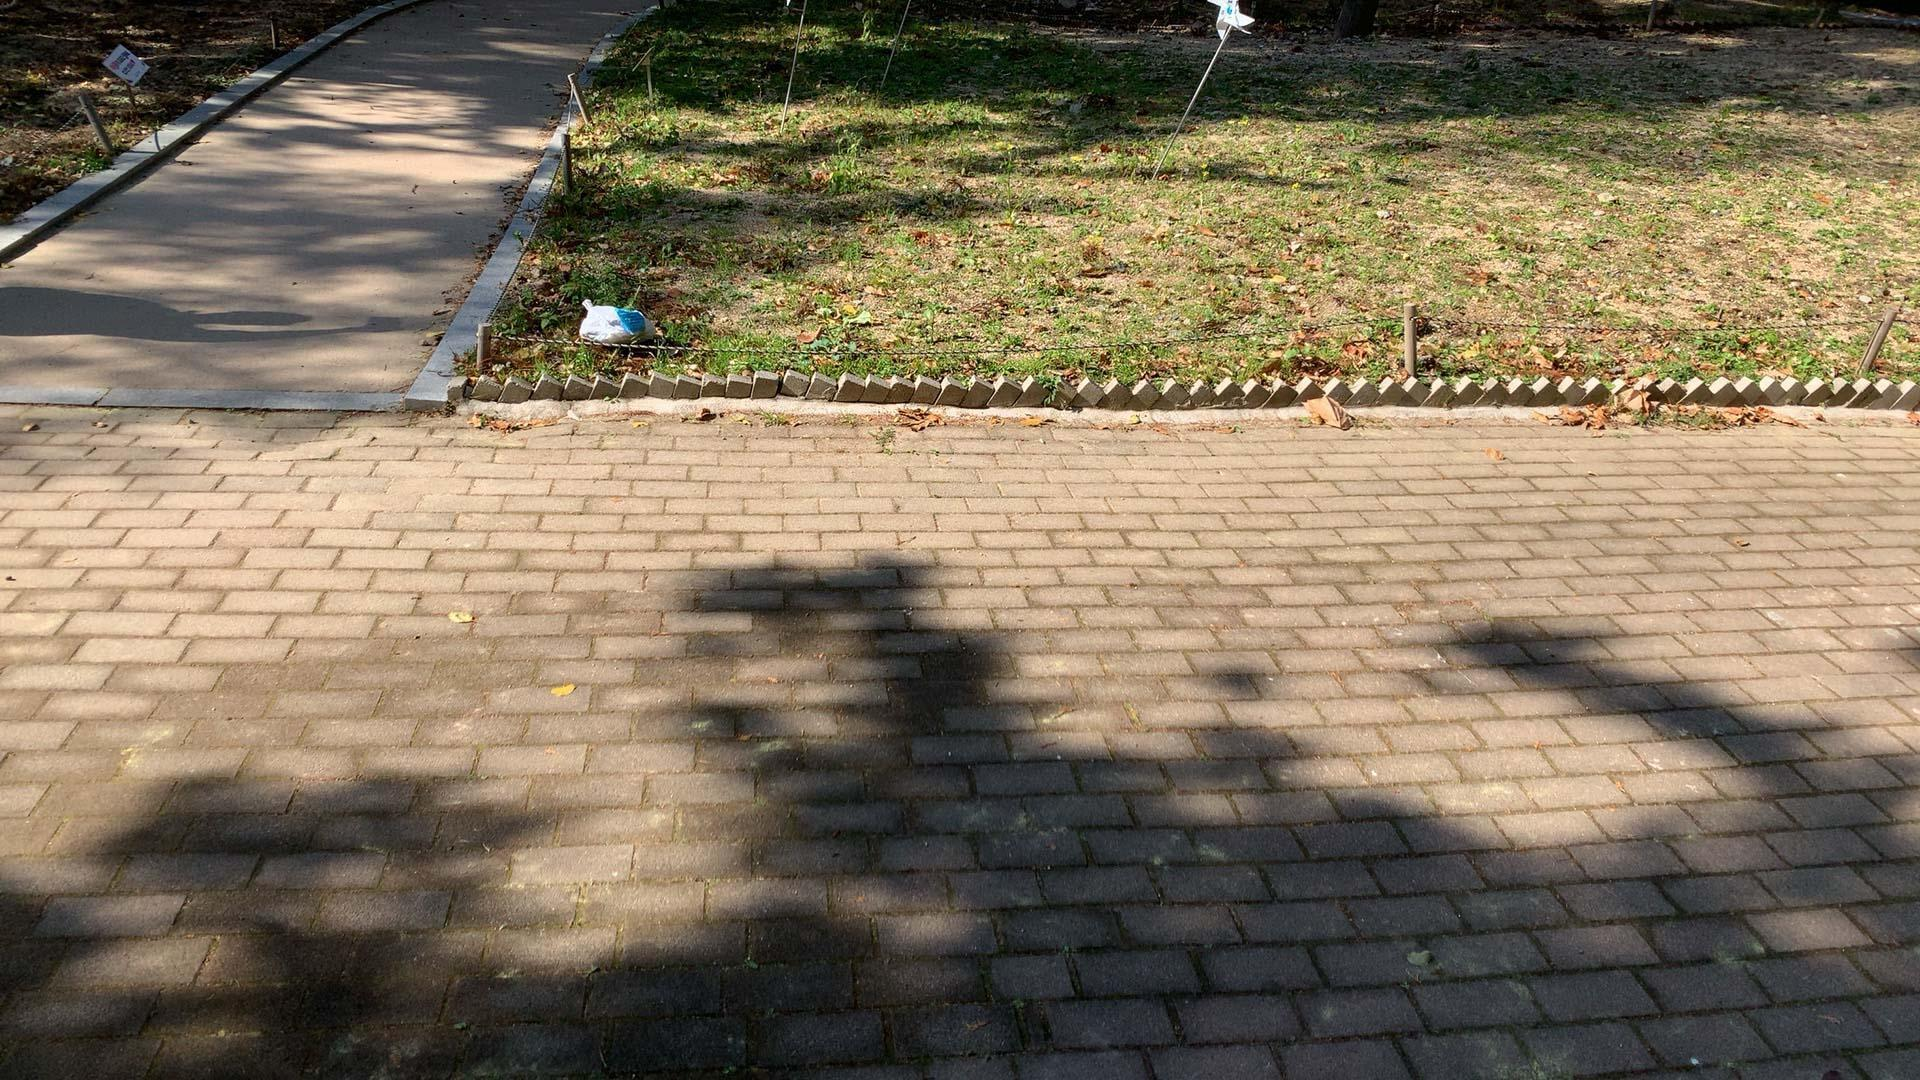white_bag: (572, 291, 666, 351)
